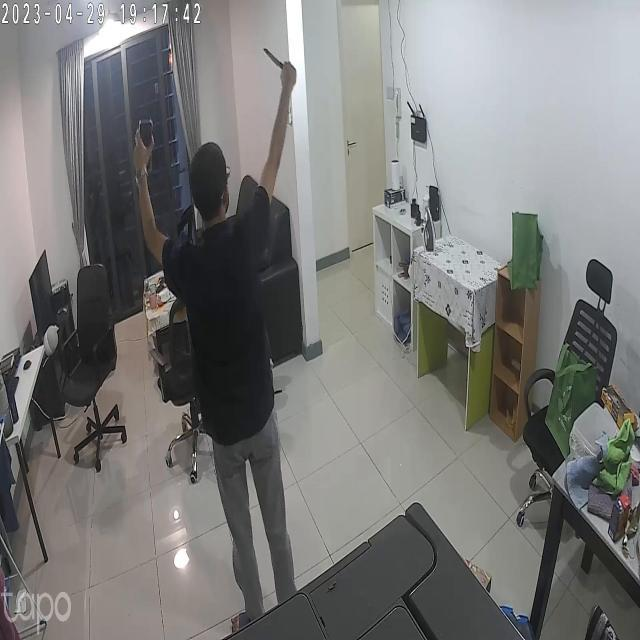Knife: (257, 38, 305, 92)
